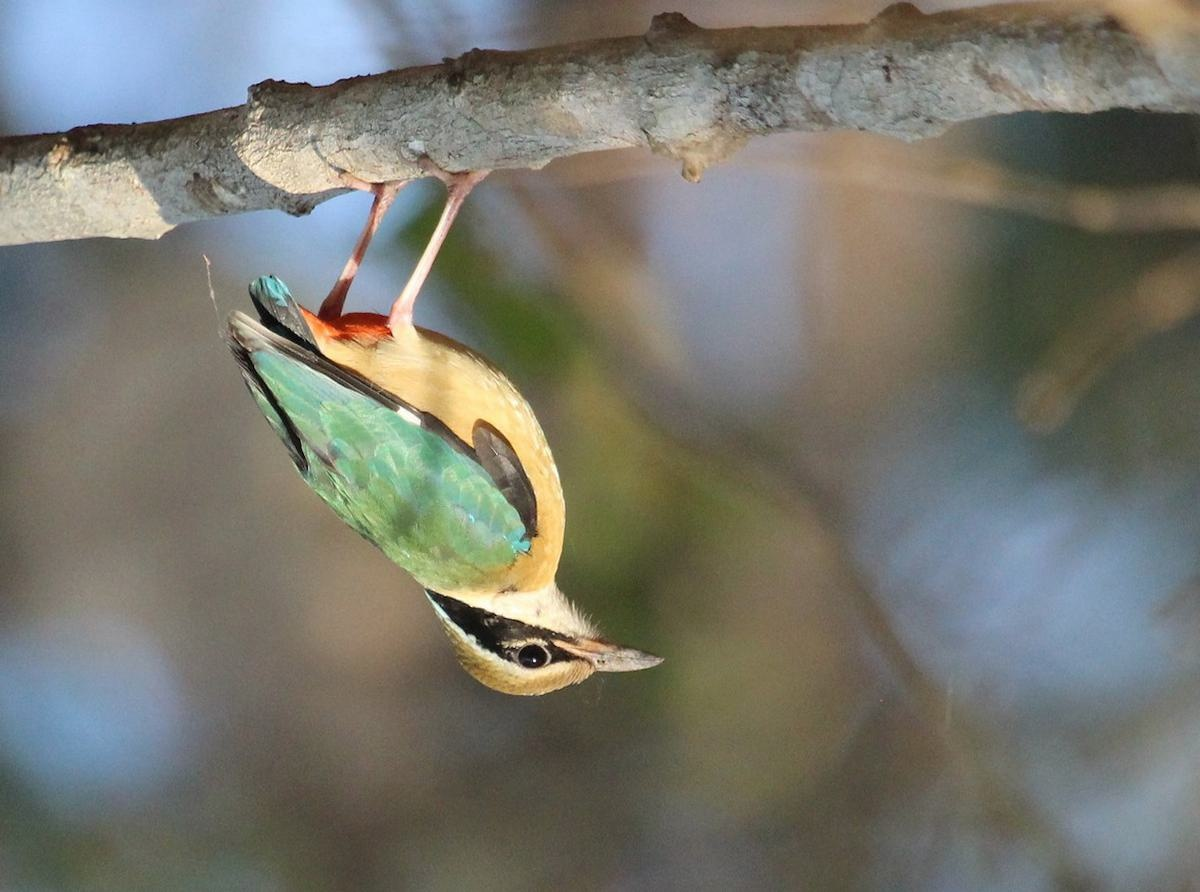pitta: (237, 174, 651, 707)
